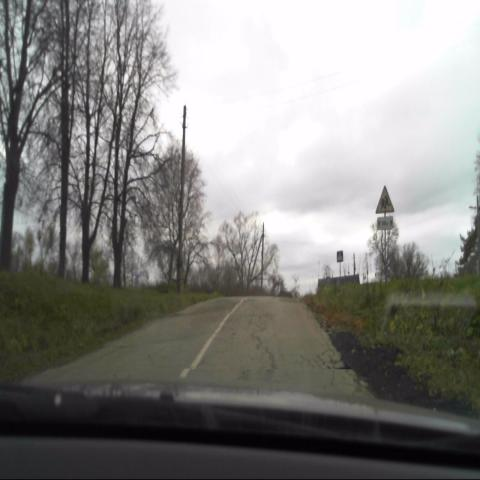8_2_1: (377, 216, 393, 230)
